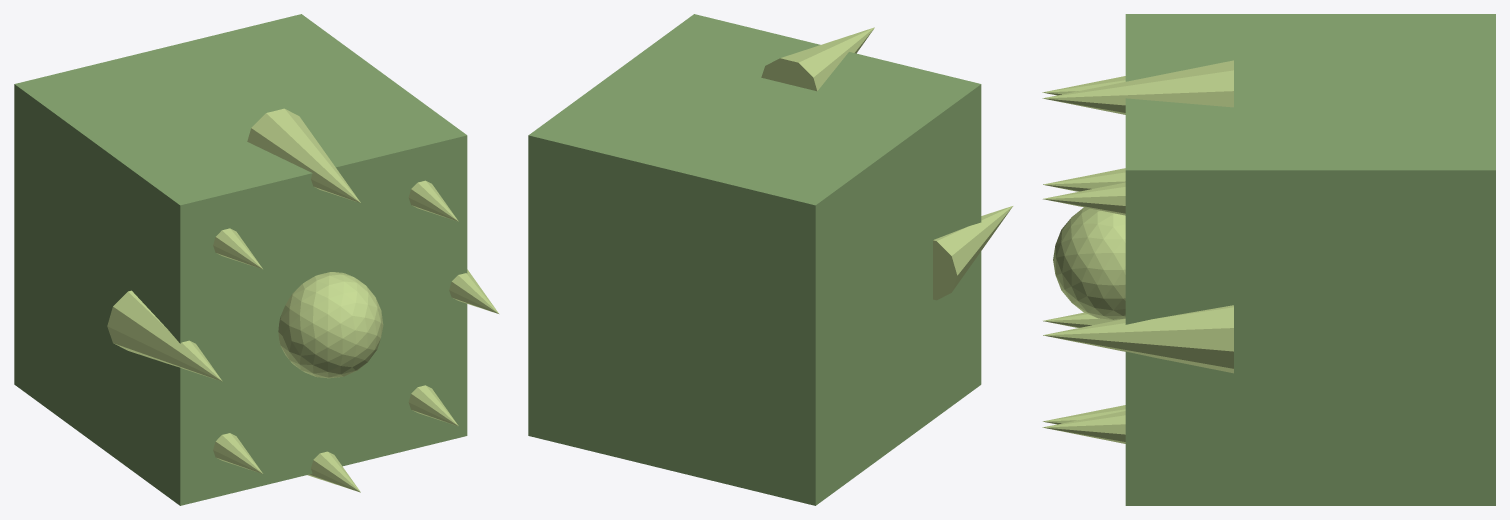
Rendered from bloom_queen.glb.
The picture shows the model from 3 angles, left to right: view 1: azimuth 30°, elevation 25°; view 2: azimuth 150°, elevation 25°; view 3: azimuth 270°, elevation 25°; orthographic projection. The views are drawn at different scales.
Visible parts, largest first — view 1: world; view 2: world; view 3: world.
Part boxes in pixels (x1,y1,x2,y2): world: (14, 14, 498, 505); world: (528, 14, 1012, 505); world: (1042, 14, 1495, 505).
Bounding box in the file's own units: 1.58 × 1.57 × 1.66.
